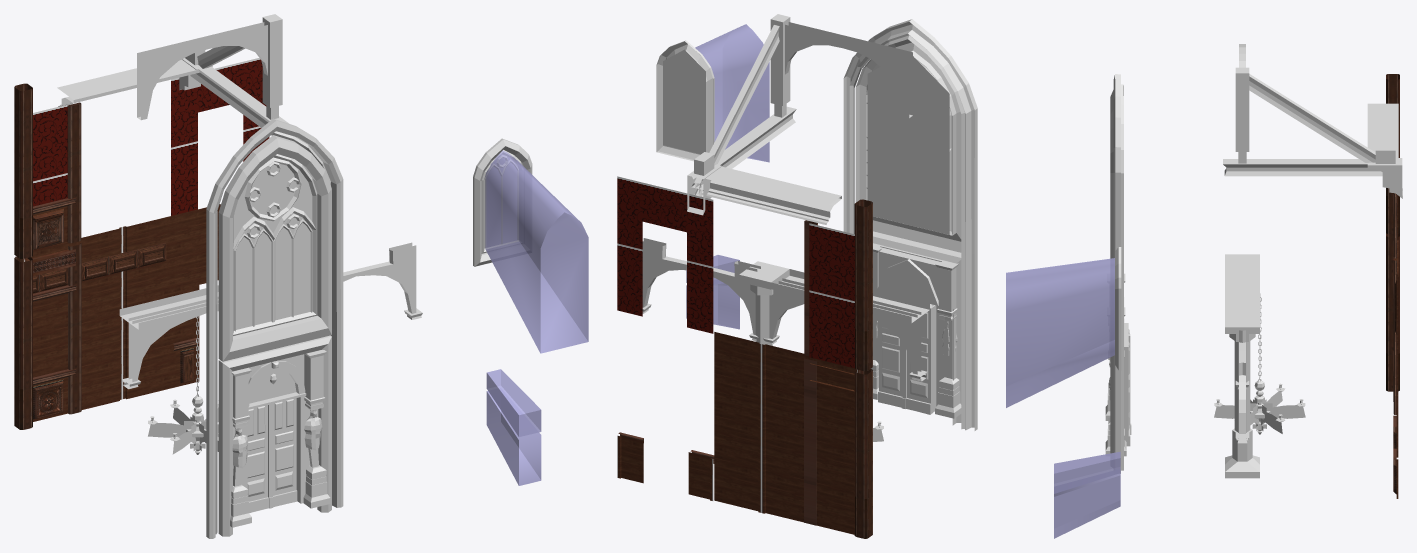
The model's file is AssetsHall2.fbx.
The picture shows the model from 3 angles, left to right: view 1: azimuth 30°, elevation 25°; view 2: azimuth 150°, elevation 25°; view 3: azimuth 270°, elevation 25°; orthographic projection. The views are drawn at different scales.
Parts seen in each view (by area): view 1: MolduraJanelaPortaHall, VolumetriaFalsa, JanelaHallGrande, FundoParedeHall, JanelaHallGrandeVidro, PapelDeParedeHall.002, PortaHall, VolumetriaFalsaEscritorio, MolduraPortaHall, FundoParedeHall.001, ArcoTeto, ArcoPrincipal (+21 smaller); view 2: FundoParedeHall, MolduraJanelaPortaHall, JanelaHallGrandeVidro, PapelDeParedeHall.002, JanelaHallGrande, FundoParedeHallSozinha, PapelDeParedeHall, VolumetriaFalsa, MolduraPortaHall, ArcoPrincipal, CumeeiraHall, JanelaHallPequenaVidro (+17 smaller); view 3: VolumetriaFalsa, VolumetriaFalsaEscritorio, MolduraJanelaPortaHall, Coluna, SuporteTetoDiagonal, ArcoPrincipal, SuporteTeto, SuporteTetoVertical, Lustre, ColunasHallCantoTerreo, CumeeiraHall, CumeeiraHallSuporte (+7 smaller).
Part boxes in pixels (bbox=[...]): MolduraJanelaPortaHall: bbox=[206, 118, 343, 538]; VolumetriaFalsa: bbox=[485, 150, 588, 353]; JanelaHallGrande: bbox=[218, 135, 331, 361]; FundoParedeHall: bbox=[74, 216, 172, 409]; JanelaHallGrandeVidro: bbox=[234, 157, 312, 329]; PapelDeParedeHall.002: bbox=[171, 58, 269, 215]; PortaHall: bbox=[247, 398, 297, 513]; VolumetriaFalsaEscritorio: bbox=[486, 369, 541, 485]; MolduraPortaHall: bbox=[233, 354, 318, 503]; FundoParedeHall.001: bbox=[172, 204, 220, 387]; ArcoTeto: bbox=[137, 22, 267, 120]; ArcoPrincipal: bbox=[119, 285, 218, 389]; FundoParedeHall: bbox=[714, 332, 810, 522]; MolduraJanelaPortaHall: bbox=[843, 19, 977, 430]; JanelaHallGrandeVidro: bbox=[867, 56, 949, 234]; PapelDeParedeHall.002: bbox=[617, 176, 713, 333]; JanelaHallGrande: bbox=[855, 39, 961, 256]; FundoParedeHallSozinha: bbox=[810, 357, 857, 535]; PapelDeParedeHall: bbox=[809, 223, 854, 368]; VolumetriaFalsa: bbox=[695, 24, 769, 162]; MolduraPortaHall: bbox=[873, 246, 953, 413]; ArcoPrincipal: bbox=[759, 269, 929, 381]; CumeeiraHall: bbox=[698, 166, 841, 224]; JanelaHallPequenaVidro: bbox=[663, 49, 705, 154]; VolumetriaFalsa: bbox=[1006, 258, 1114, 407]; VolumetriaFalsaEscritorio: bbox=[1054, 451, 1120, 538]; MolduraJanelaPortaHall: bbox=[1110, 74, 1123, 473]; Coluna: bbox=[1225, 312, 1259, 478]; SuporteTetoDiagonal: bbox=[1249, 74, 1375, 162]; ArcoPrincipal: bbox=[1225, 254, 1259, 312]; SuporteTeto: bbox=[1260, 159, 1382, 176]; SuporteTetoVertical: bbox=[1223, 67, 1259, 176]; Lustre: bbox=[1214, 380, 1305, 434]; ColunasHallCantoTerreo: bbox=[1386, 233, 1399, 391]; CumeeiraHall: bbox=[1367, 103, 1398, 157]; CumeeiraHallSuporte: bbox=[1367, 146, 1402, 198].
Size of the model in its own units: 11.19 by 11.42 by 12.8.
